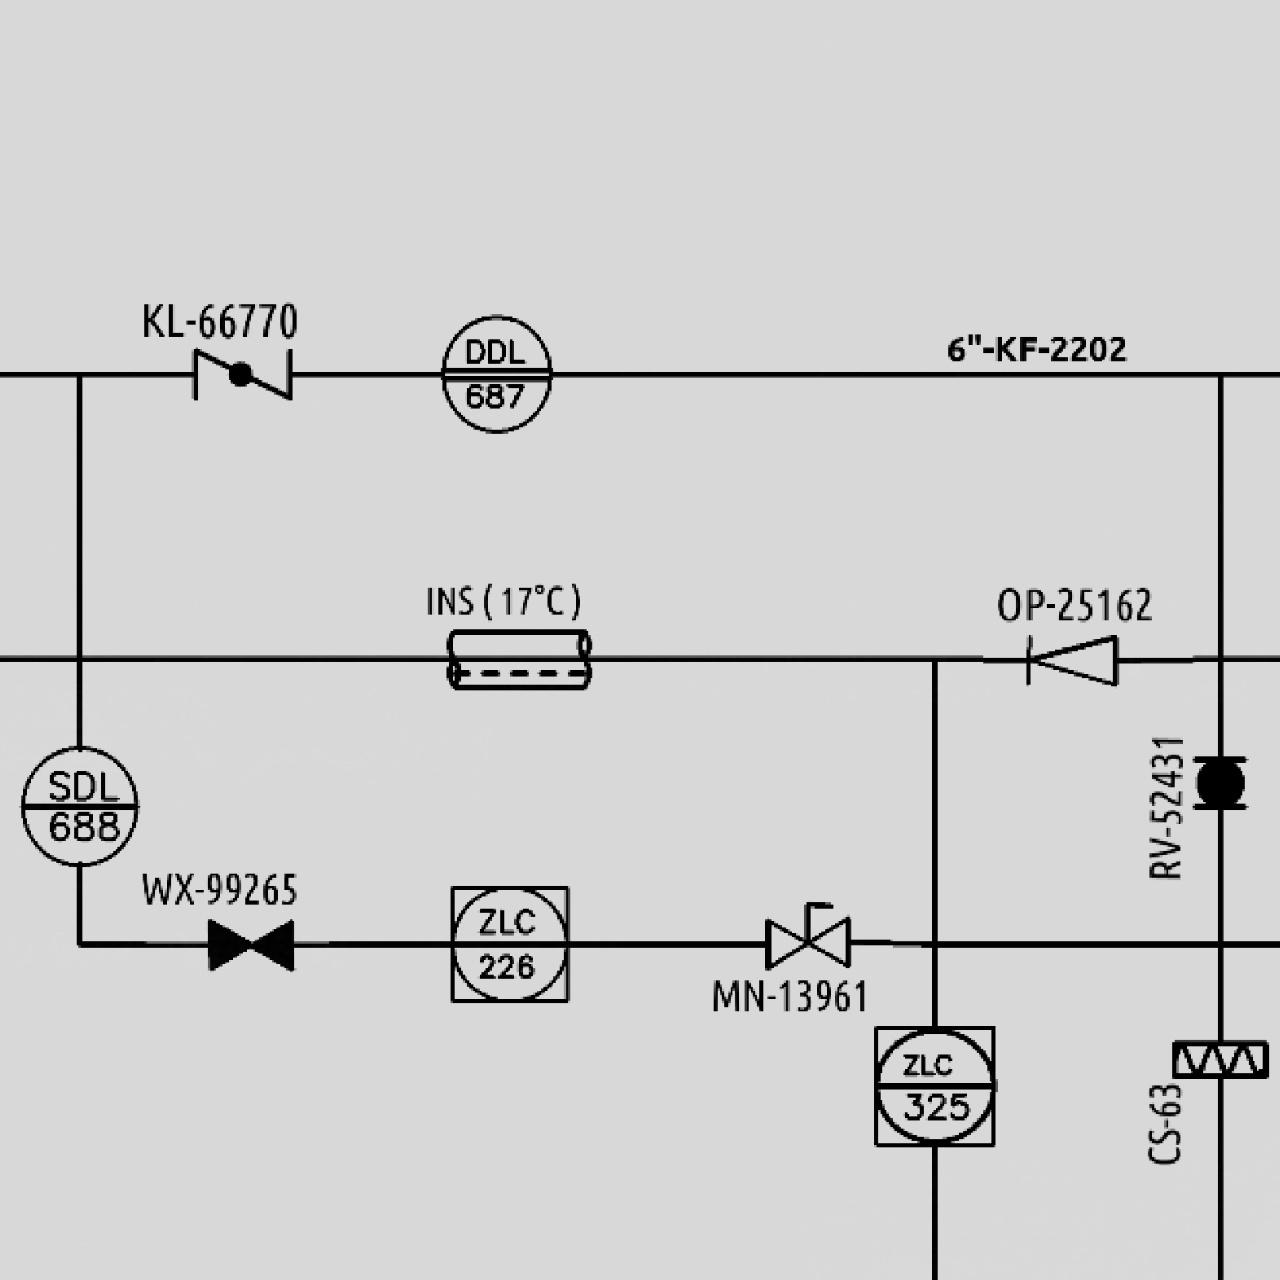Control-Panel: (433, 210, 559, 338)
